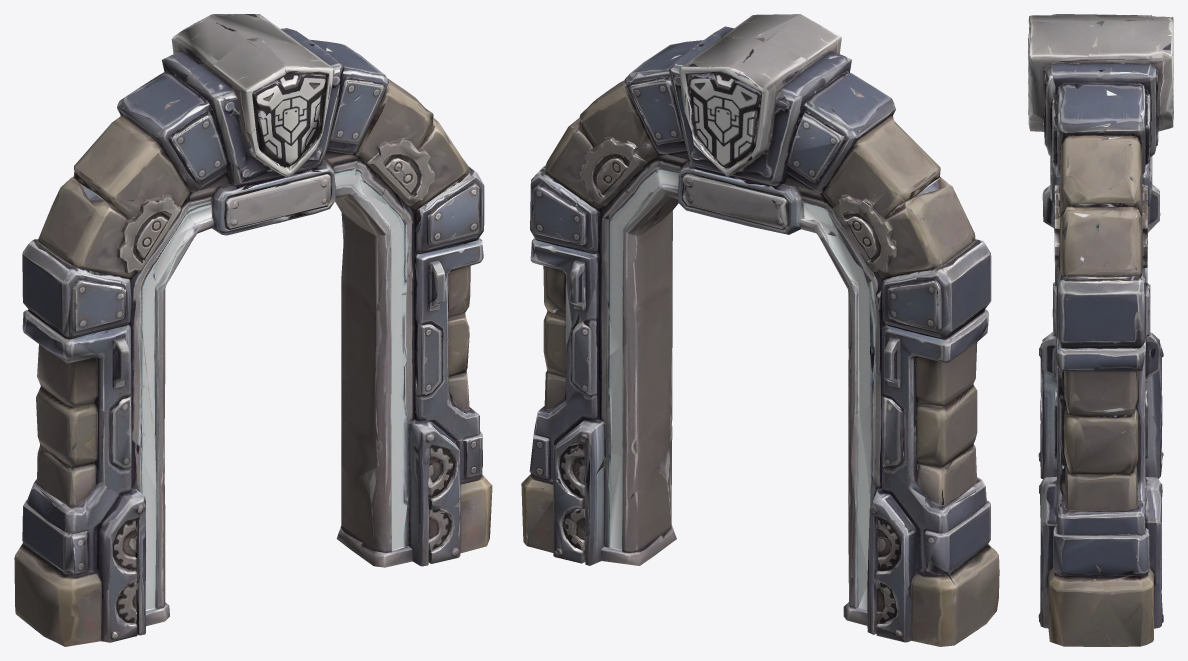
Rendered from runner-gate-ai.glb.
The picture shows the model from 3 angles, left to right: view 1: azimuth 30°, elevation 25°; view 2: azimuth 150°, elevation 25°; view 3: azimuth 270°, elevation 25°; orthographic projection. The views are drawn at different scales.
Bounding box in the file's own units: 1.61 × 1.9 × 0.4804.
1 material, 1 textured.
